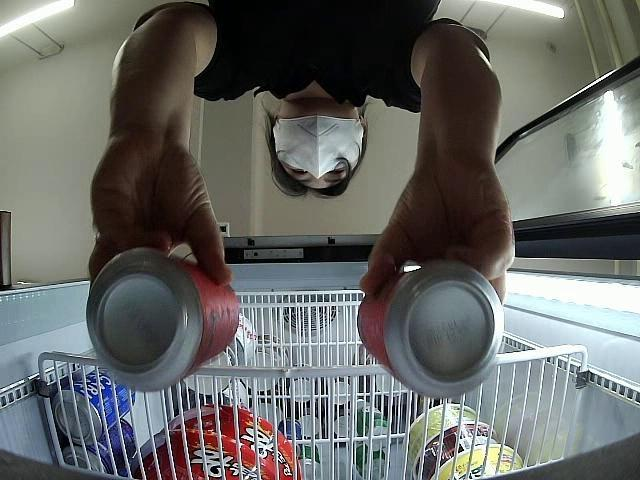11_cocaColaZero: (86, 248, 239, 391), (358, 264, 502, 397)
